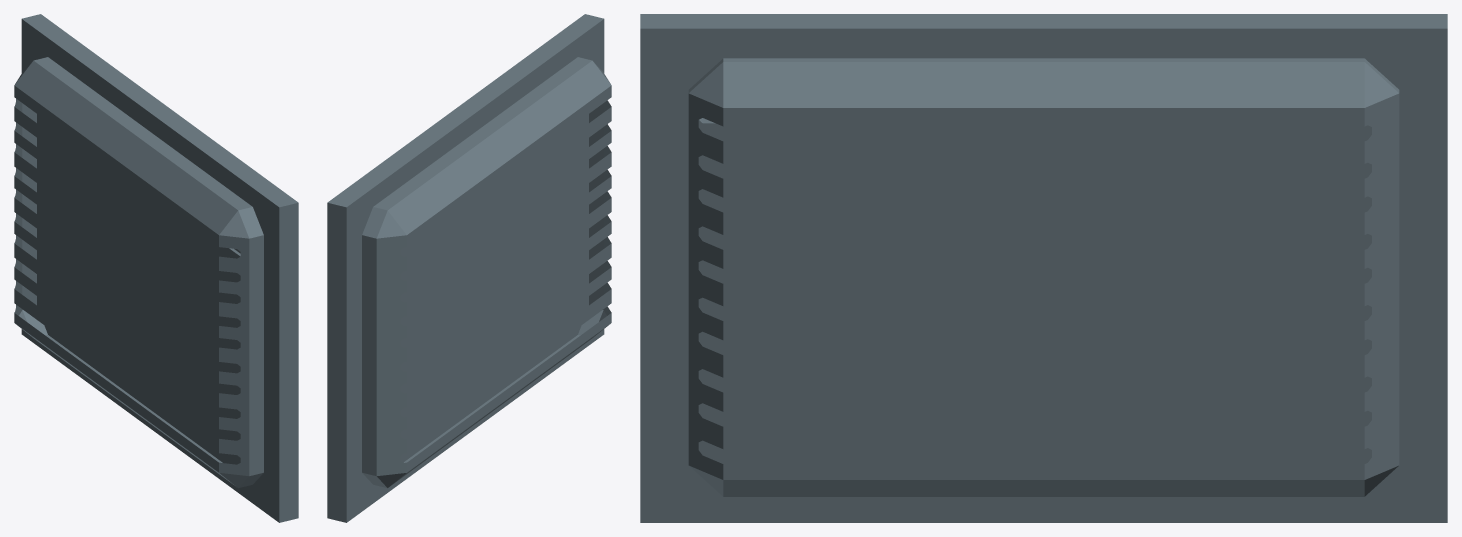
The model's file is plaka 21.fbx.
3 renders of one model, left to right at view 1: azimuth 30°, elevation 25°; view 2: azimuth 150°, elevation 25°; view 3: azimuth 270°, elevation 25°, orthographic. The views are drawn at different scales.
Visible parts, largest first — view 1: pCube431; view 2: pCube431; view 3: pCube431.
Part boxes in pixels (x1,y1,x2,y2): pCube431: [14, 14, 298, 522]; pCube431: [327, 14, 611, 522]; pCube431: [640, 14, 1447, 522].
Bounding box in the file's own units: 35.46 × 139 × 206.
